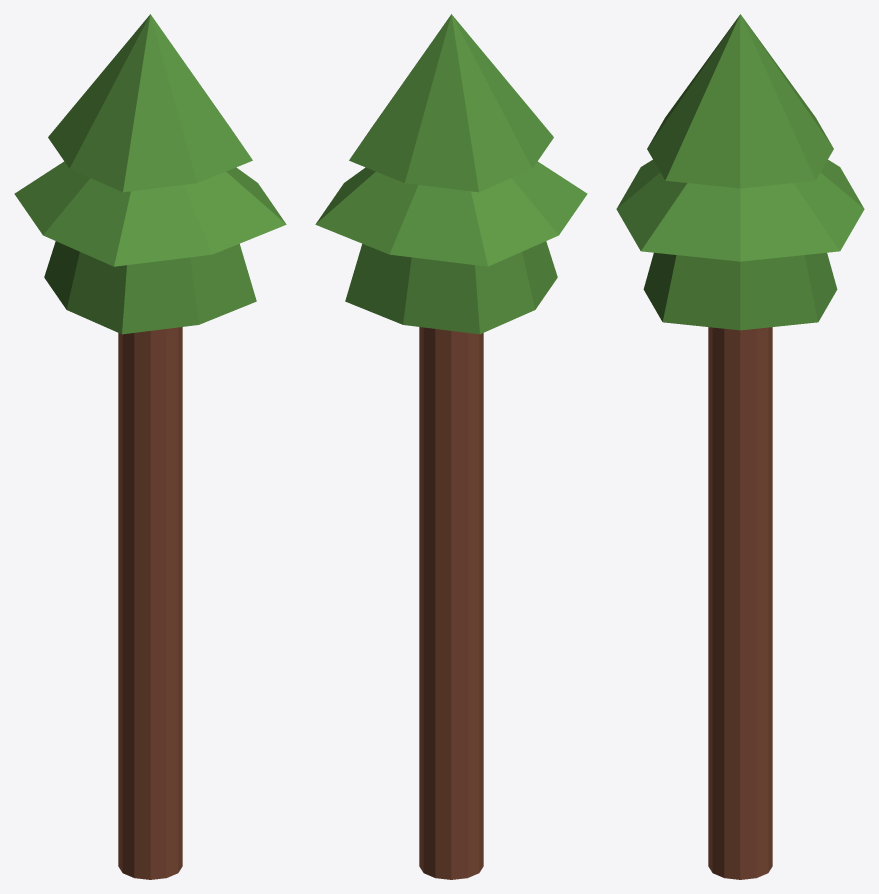
The model's file is Tree_20_summer_mat.fbx.
3 views of the same model, side by side, from view 1: azimuth 30°, elevation 25°; view 2: azimuth 150°, elevation 25°; view 3: azimuth 270°, elevation 25° (orthographic).
Visible parts, largest first — view 1: Tree_20_summer_mat; view 2: Tree_20_summer_mat; view 3: Tree_20_summer_mat.
Boxes of the visible parts, x1,y1,x2,y2 form: Tree_20_summer_mat: (14,14,286,879); Tree_20_summer_mat: (315,14,587,879); Tree_20_summer_mat: (616,14,864,879).
Size of the model in its own units: 85.54 by 324 by 85.54.
